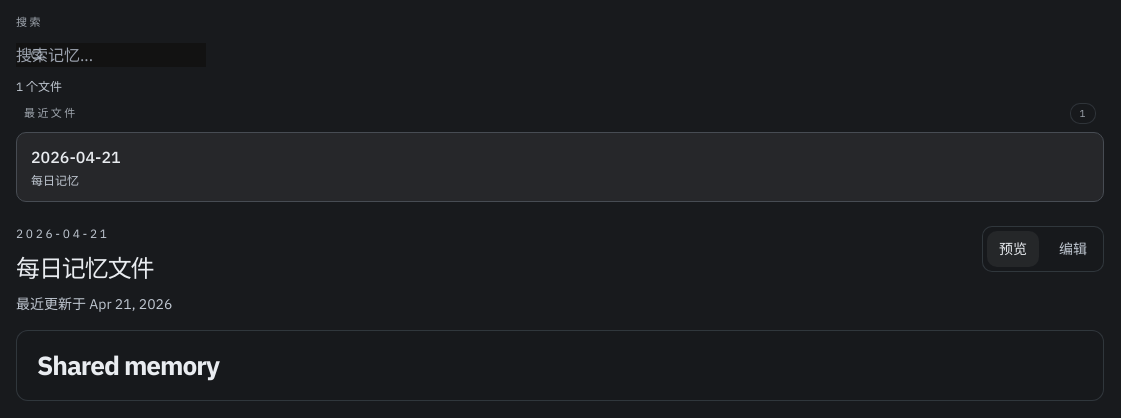
Test: MemoryPage › allows authenticated users to switch into edit mode
Click the button "编辑". click: (1073, 248)
box: [1047,230,1099,266]
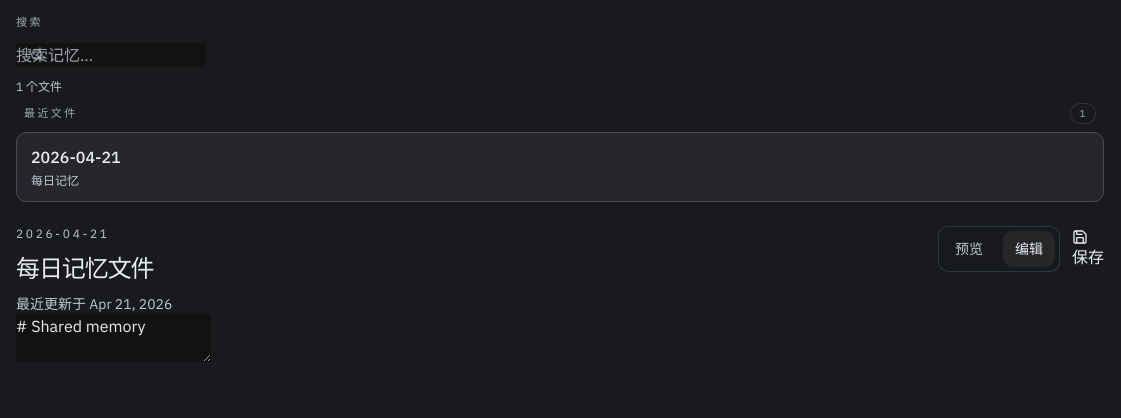
Now the button "保存" is shown, box [1072,228,1104,268]
Now the text box showing "# Shared memory" is shown, box [16,314,211,362]
